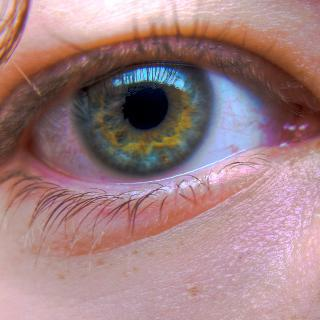pupil: (119, 83, 167, 131)
